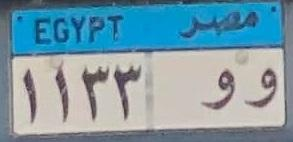1: (22, 64, 43, 126), (52, 60, 73, 121)
3: (79, 63, 111, 126), (112, 61, 143, 124)
waw: (197, 63, 238, 118), (242, 62, 280, 117)
